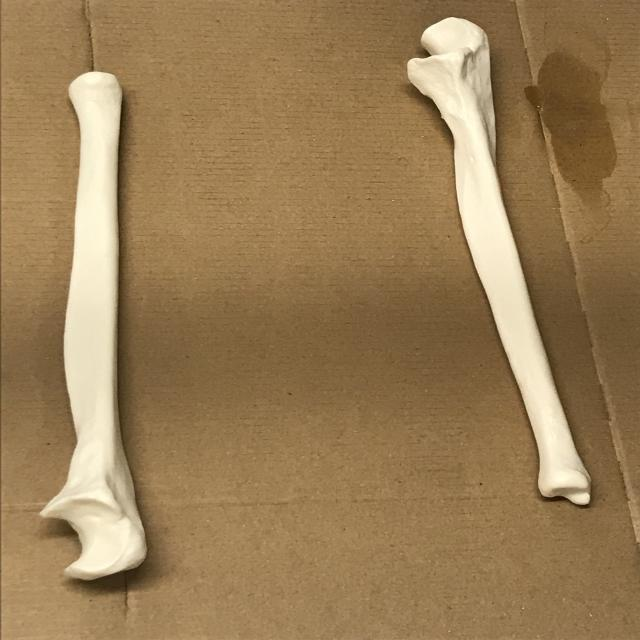bone: (396, 13, 597, 516), (40, 68, 155, 586)
